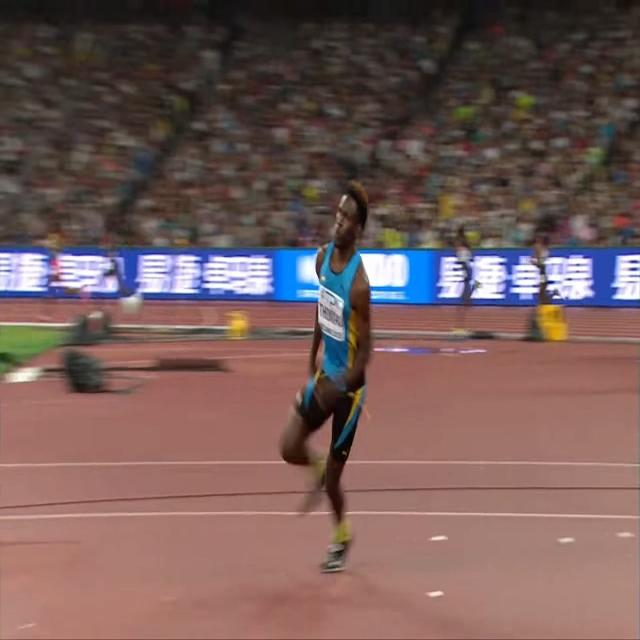run: (279, 182, 371, 571)
